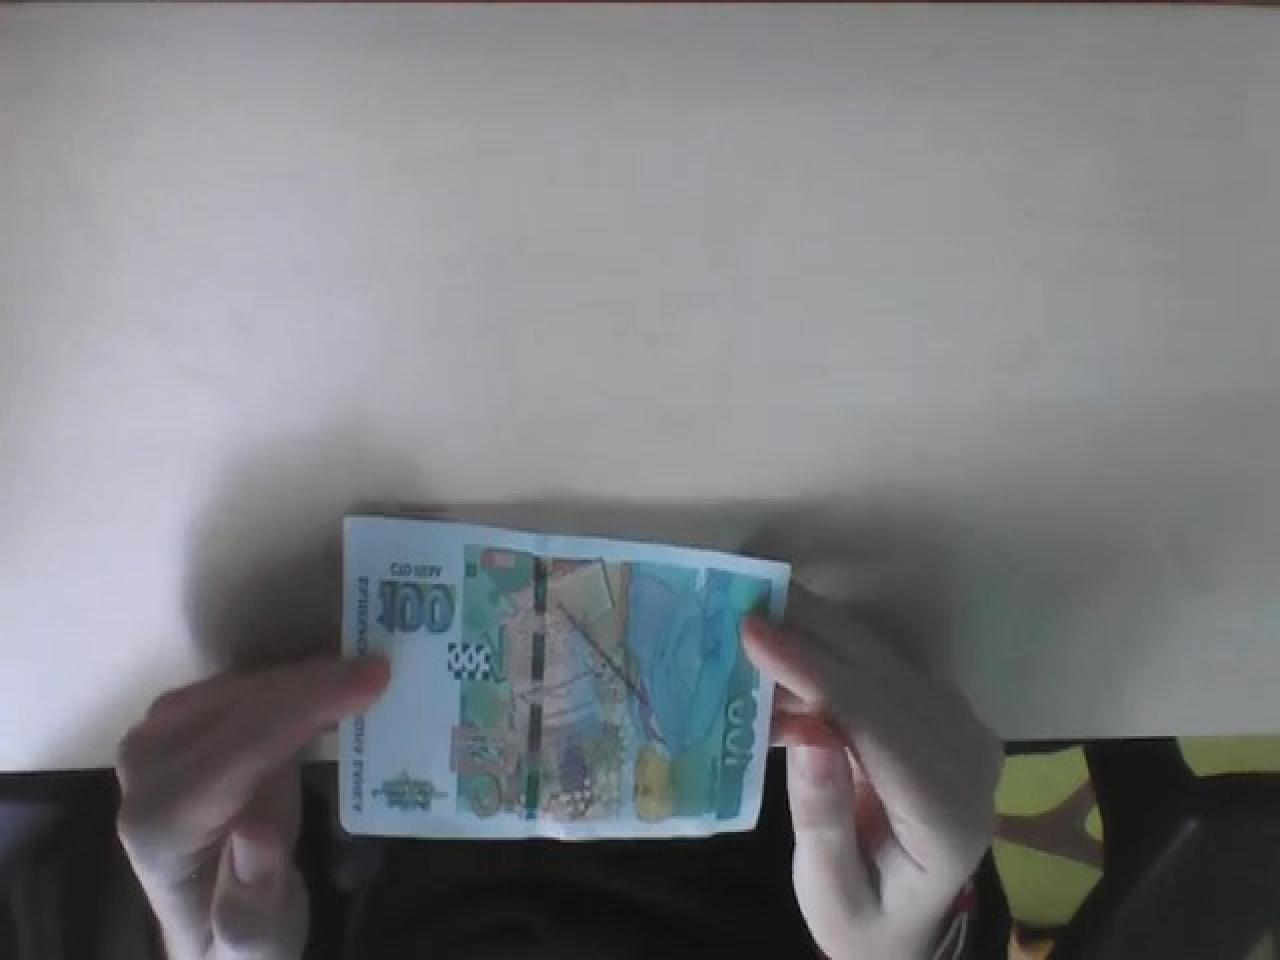100leva: (334, 512, 790, 845), (372, 579, 456, 640)
